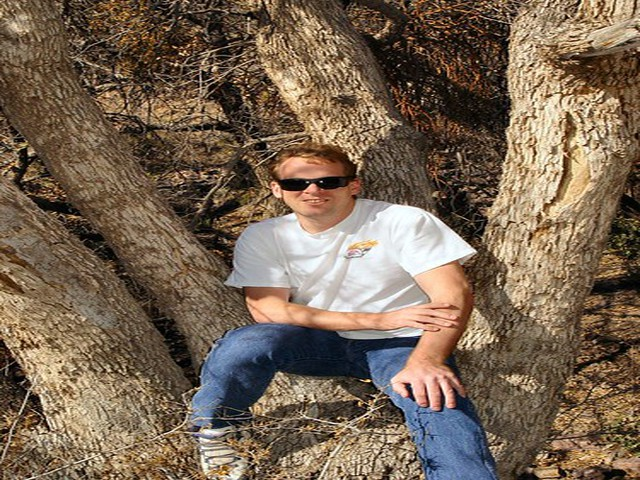Person: (202, 140, 475, 455)
